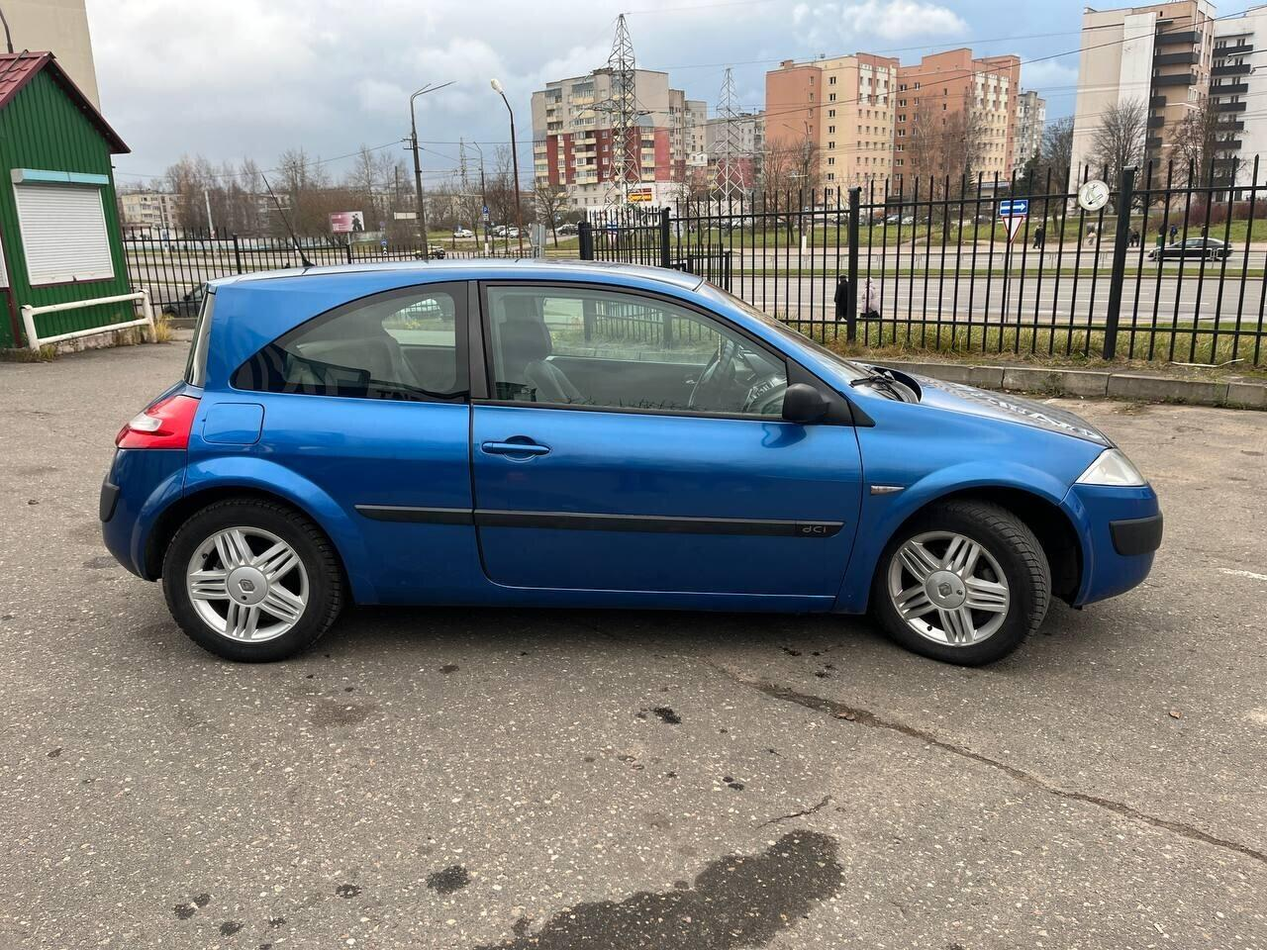Megane_2002-2006: (95, 260, 1169, 694)
